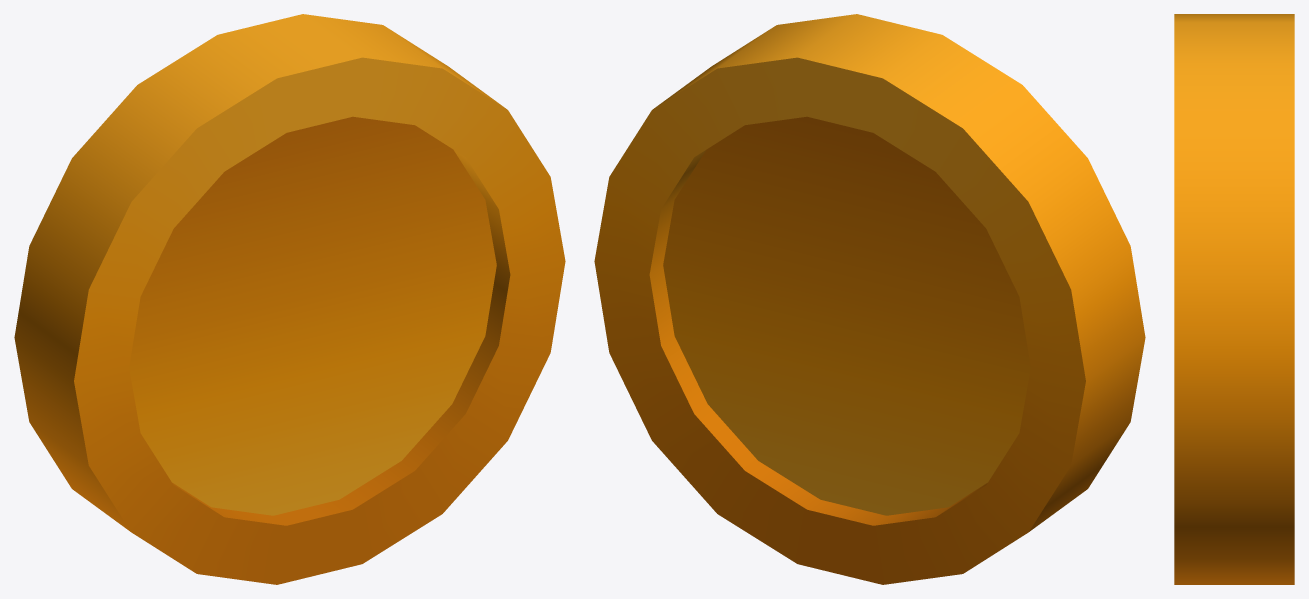
File: Collectable_Coin_01.fbx
3 renders of one model, left to right at view 1: azimuth 30°, elevation 25°; view 2: azimuth 150°, elevation 25°; view 3: azimuth 270°, elevation 25°, orthographic.
Visible parts, largest first — view 1: Collectable_Coin_01; view 2: Collectable_Coin_01; view 3: Collectable_Coin_01.
Boxes of the visible parts, left/top/right/bottom form: Collectable_Coin_01: left=14, top=14, right=565, bottom=584; Collectable_Coin_01: left=594, top=14, right=1145, bottom=584; Collectable_Coin_01: left=1174, top=14, right=1294, bottom=584.
Bounding box in the file's own units: 79.7 × 78.49 × 16.71.
